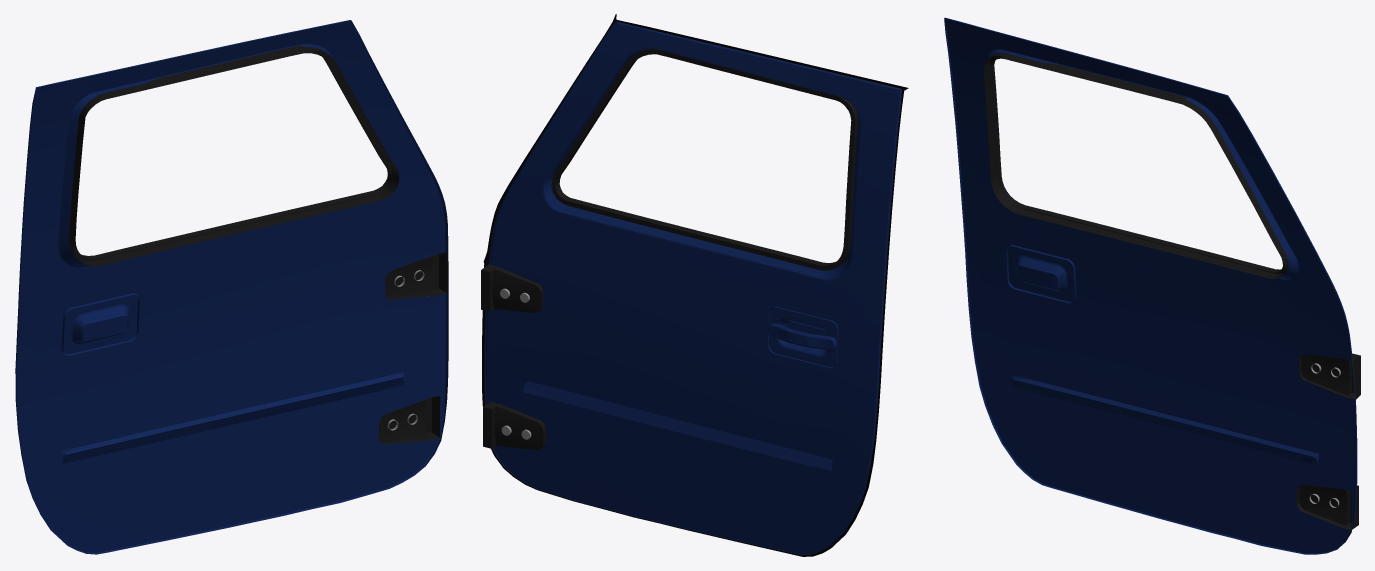
3 views of the same model, side by side, from view 1: azimuth 30°, elevation 25°; view 2: azimuth 150°, elevation 25°; view 3: azimuth 330°, elevation 25° (orthographic). The views are drawn at different scales.
Visible parts, largest first — view 1: J715_8A_261B_L_1_DaS_J715_8A_261B_L, J715_8A_261B_L_J715_8A_261B_L_3_D, J715_8A_261B_L_1_DaS_J715_8A_261B_L_E; view 2: J715_8A_261B_L_1_DaS_J715_8A_261B_L, J715_8A_261B_L_J715_8A_261B_L_3_D, J715_8A_261B_L_1_DaS_J715_8A_261B_L_E, J715_8A_261B_L_J715_8A_261B_L_4_D; view 3: J715_8A_261B_L_1_DaS_J715_8A_261B_L, J715_8A_261B_L_J715_8A_261B_L_3_D, J715_8A_261B_L_1_DaS_J715_8A_261B_L_E.
Boxes of the visible parts, x1,y1,x2,y2 form: J715_8A_261B_L_1_DaS_J715_8A_261B_L: (16, 20, 448, 553); J715_8A_261B_L_J715_8A_261B_L_3_D: (69, 45, 447, 444); J715_8A_261B_L_1_DaS_J715_8A_261B_L_E: (15, 20, 448, 554); J715_8A_261B_L_1_DaS_J715_8A_261B_L: (484, 22, 900, 554); J715_8A_261B_L_J715_8A_261B_L_3_D: (481, 49, 857, 449); J715_8A_261B_L_1_DaS_J715_8A_261B_L_E: (523, 21, 901, 546); J715_8A_261B_L_J715_8A_261B_L_4_D: (482, 14, 908, 556); J715_8A_261B_L_1_DaS_J715_8A_261B_L: (945, 18, 1356, 553); J715_8A_261B_L_J715_8A_261B_L_3_D: (983, 53, 1360, 529); J715_8A_261B_L_1_DaS_J715_8A_261B_L_E: (944, 17, 1357, 554).
Size of the model in its own units: 109 by 122 by 14.78.
